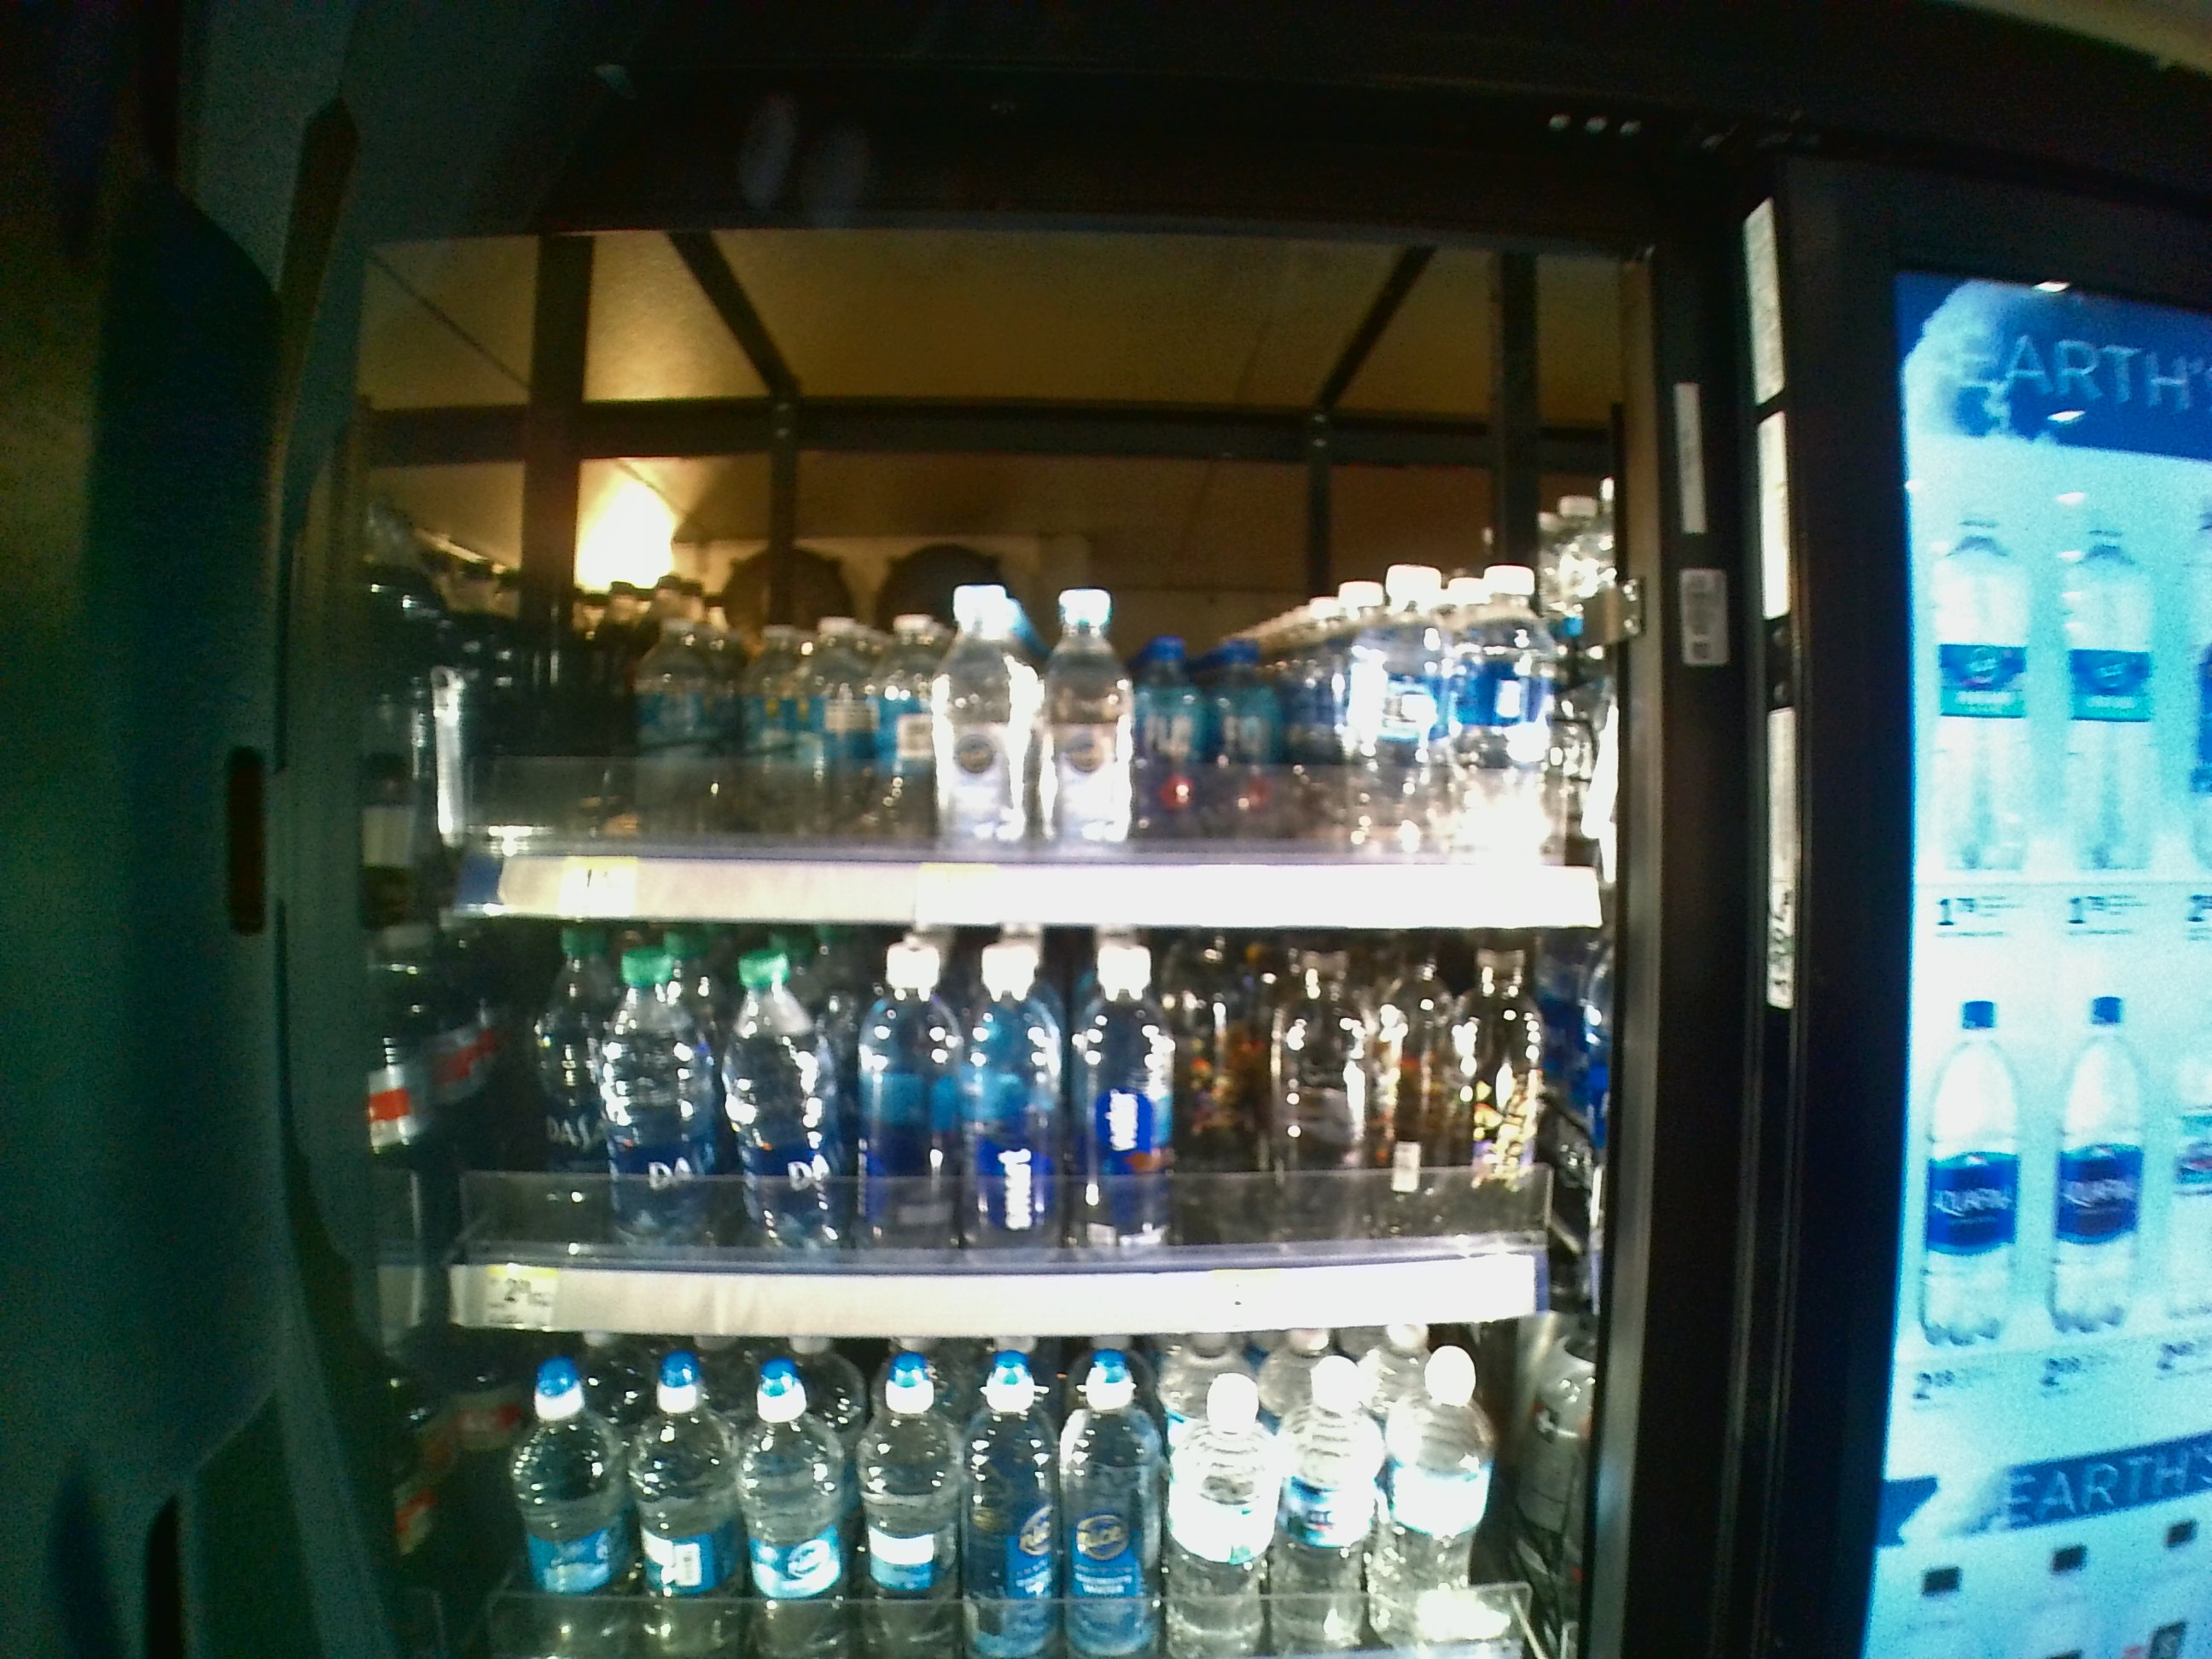Shelf: (415, 232, 1627, 929), (415, 927, 1634, 1342)
